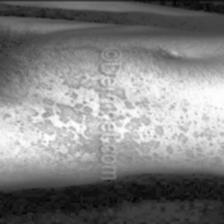Non-Cancerous Skin Condition: (19, 94, 94, 160)
